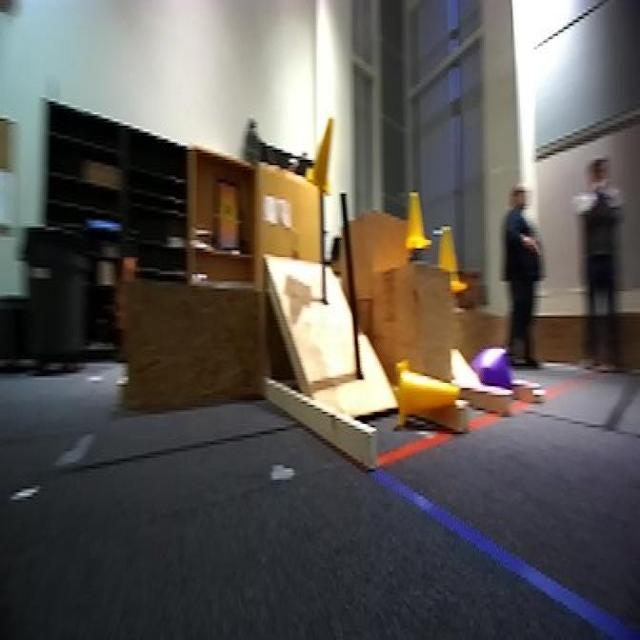frc_cone: (393, 354, 463, 439), (306, 107, 341, 194), (437, 225, 470, 291), (404, 192, 430, 254)
frc_cube: (472, 349, 510, 397)
